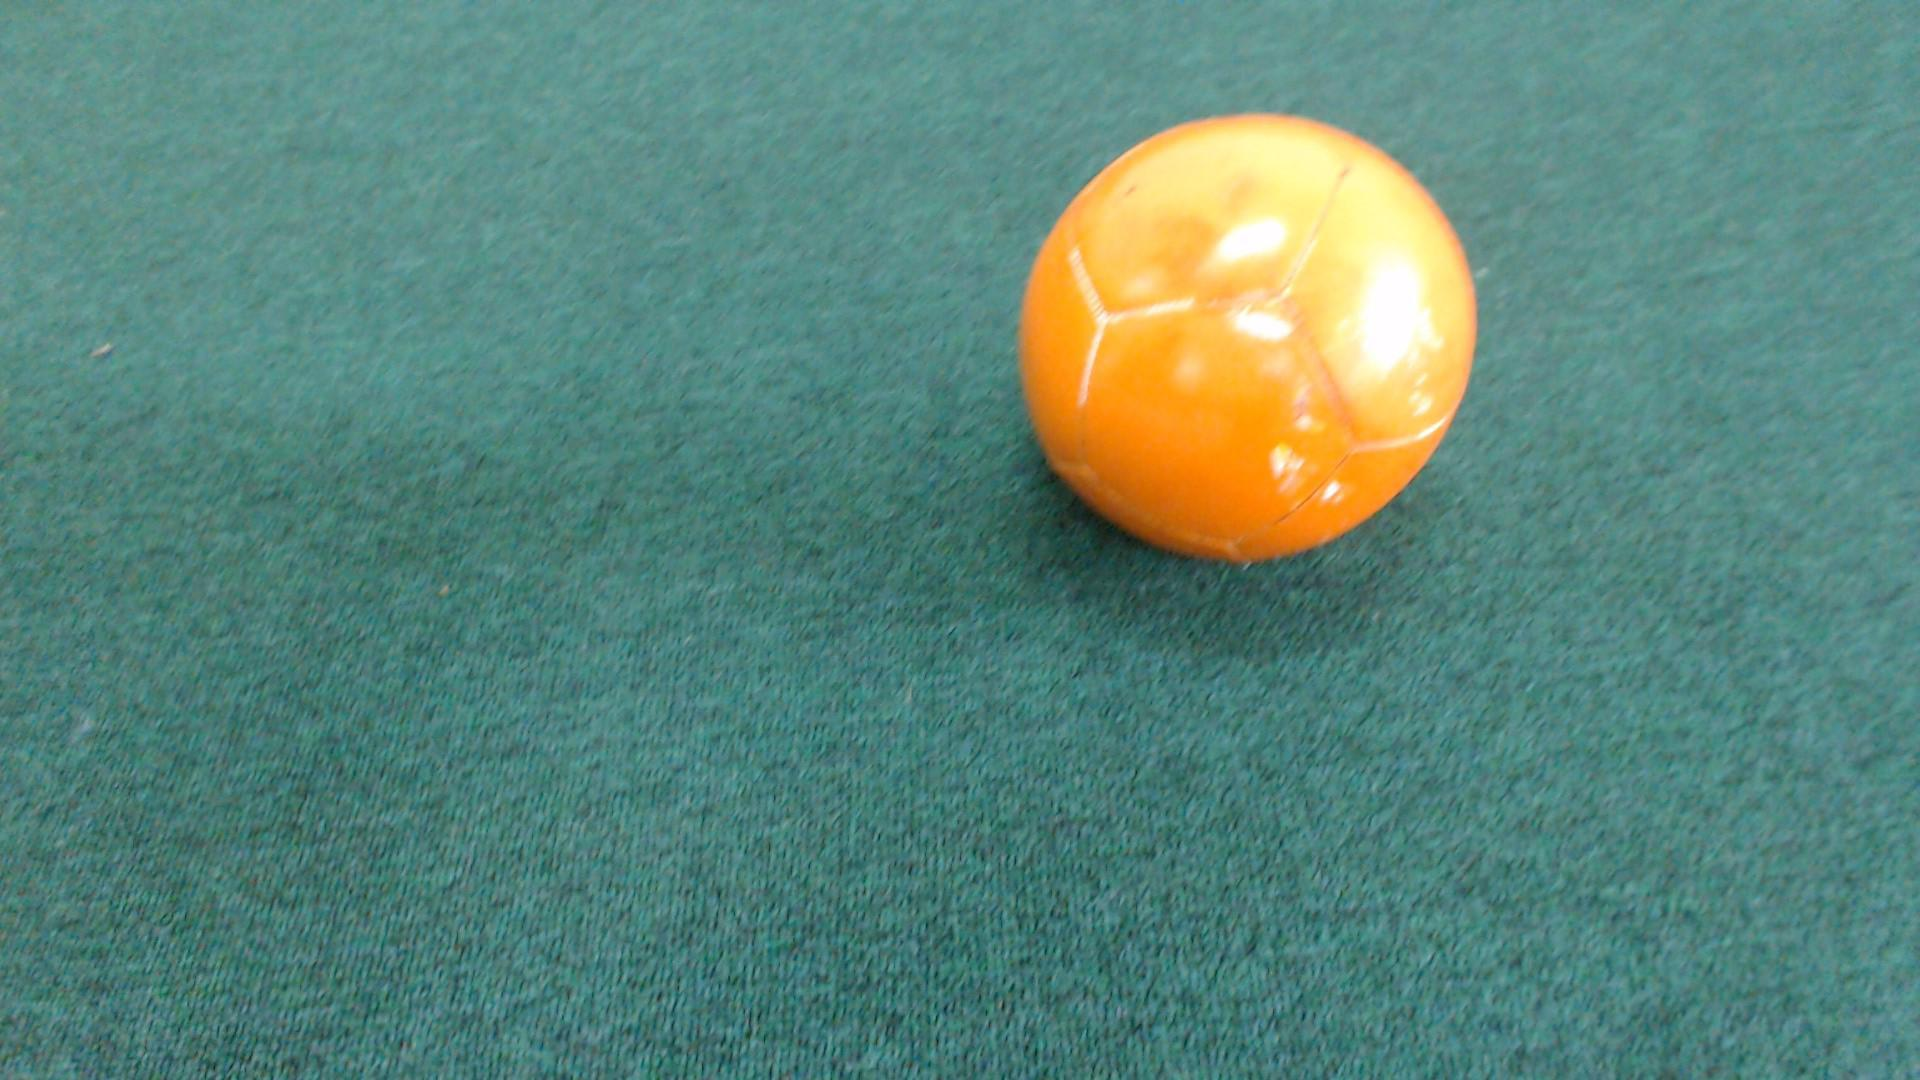bola: (993, 102, 1530, 575)
